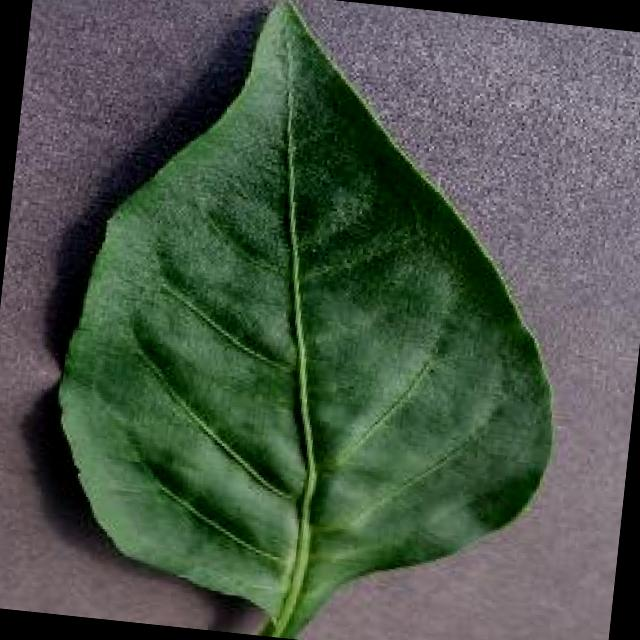healthy: (62, 2, 551, 637)
